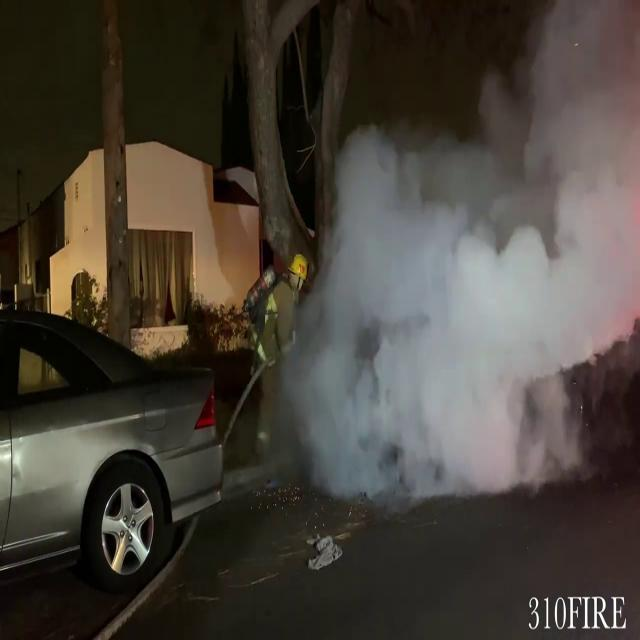Smoke: (277, 120, 639, 519)
